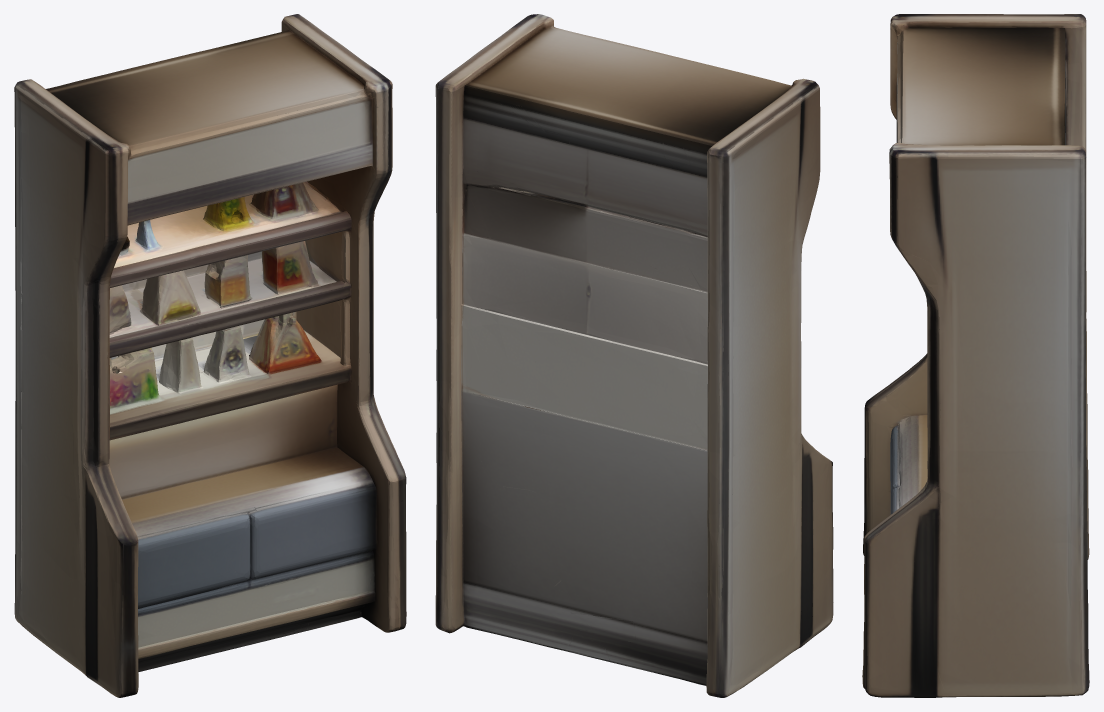
Rendered from bottle_shelf.glb.
3 renders of one model, left to right at view 1: azimuth 30°, elevation 25°; view 2: azimuth 150°, elevation 25°; view 3: azimuth 270°, elevation 25°, orthographic.
Visible parts, largest first — view 1: world; view 2: world; view 3: world.
Boxes of the visible parts, <box> form: world: <box>14,14,406,697</box>; world: <box>435,14,833,697</box>; world: <box>862,14,1089,697</box>.
Bounding box in the file's own units: 0.5638 × 1 × 0.3769.
1 material, 1 textured.
